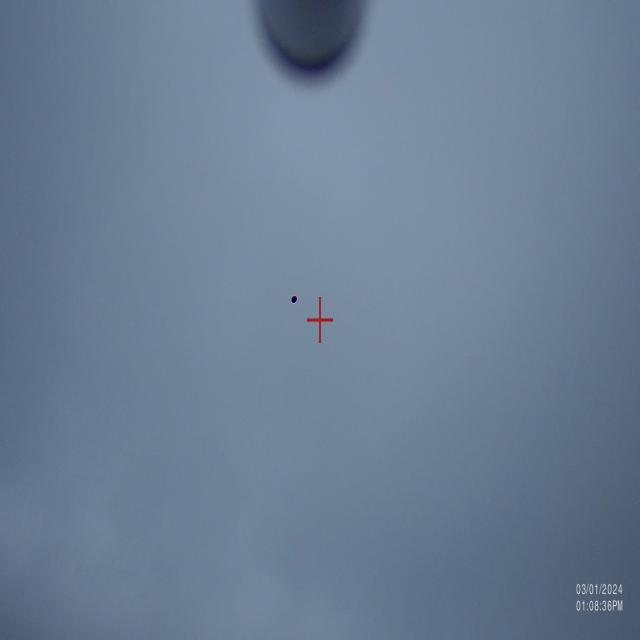entire: (286, 286, 300, 310)
